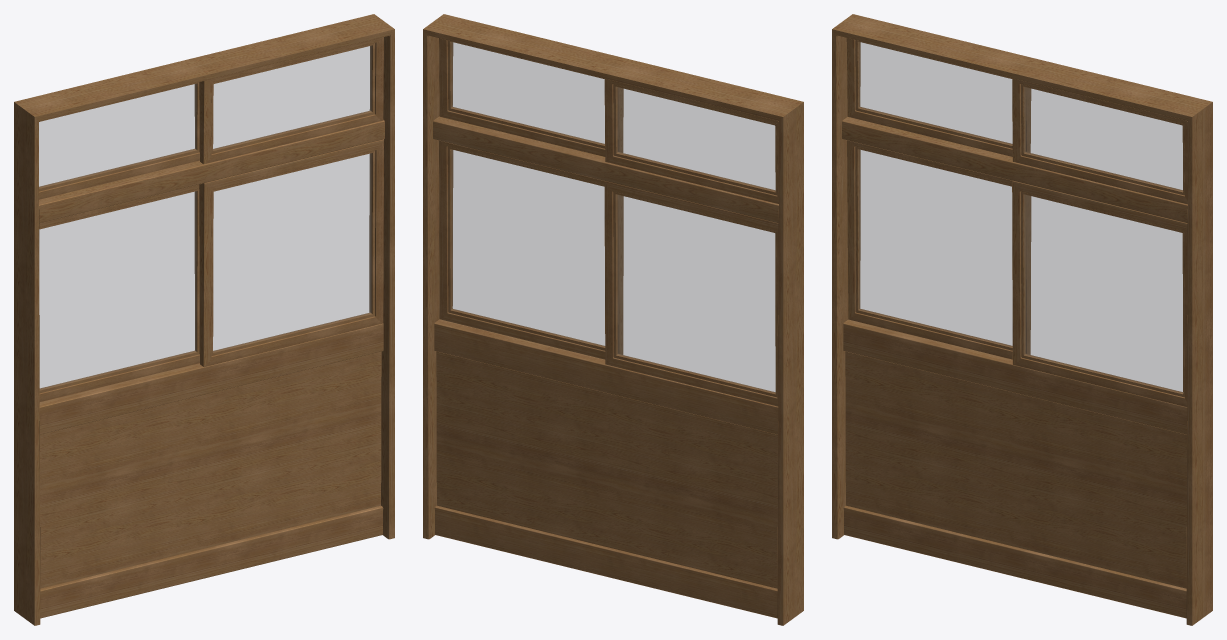
The model's file is M_Partition04.FBX.
The picture shows the model from 3 angles, left to right: view 1: azimuth 30°, elevation 25°; view 2: azimuth 150°, elevation 25°; view 3: azimuth 330°, elevation 25°; orthographic projection.
Visible parts, largest first — view 1: Partition_02; view 2: Partition_02; view 3: Partition_02.
Boxes of the visible parts, x1,y1,x2,y2 form: Partition_02: (14, 14, 394, 625); Partition_02: (423, 14, 803, 625); Partition_02: (832, 14, 1212, 625).
Size of the model in its own units: 200 by 270 by 20.
